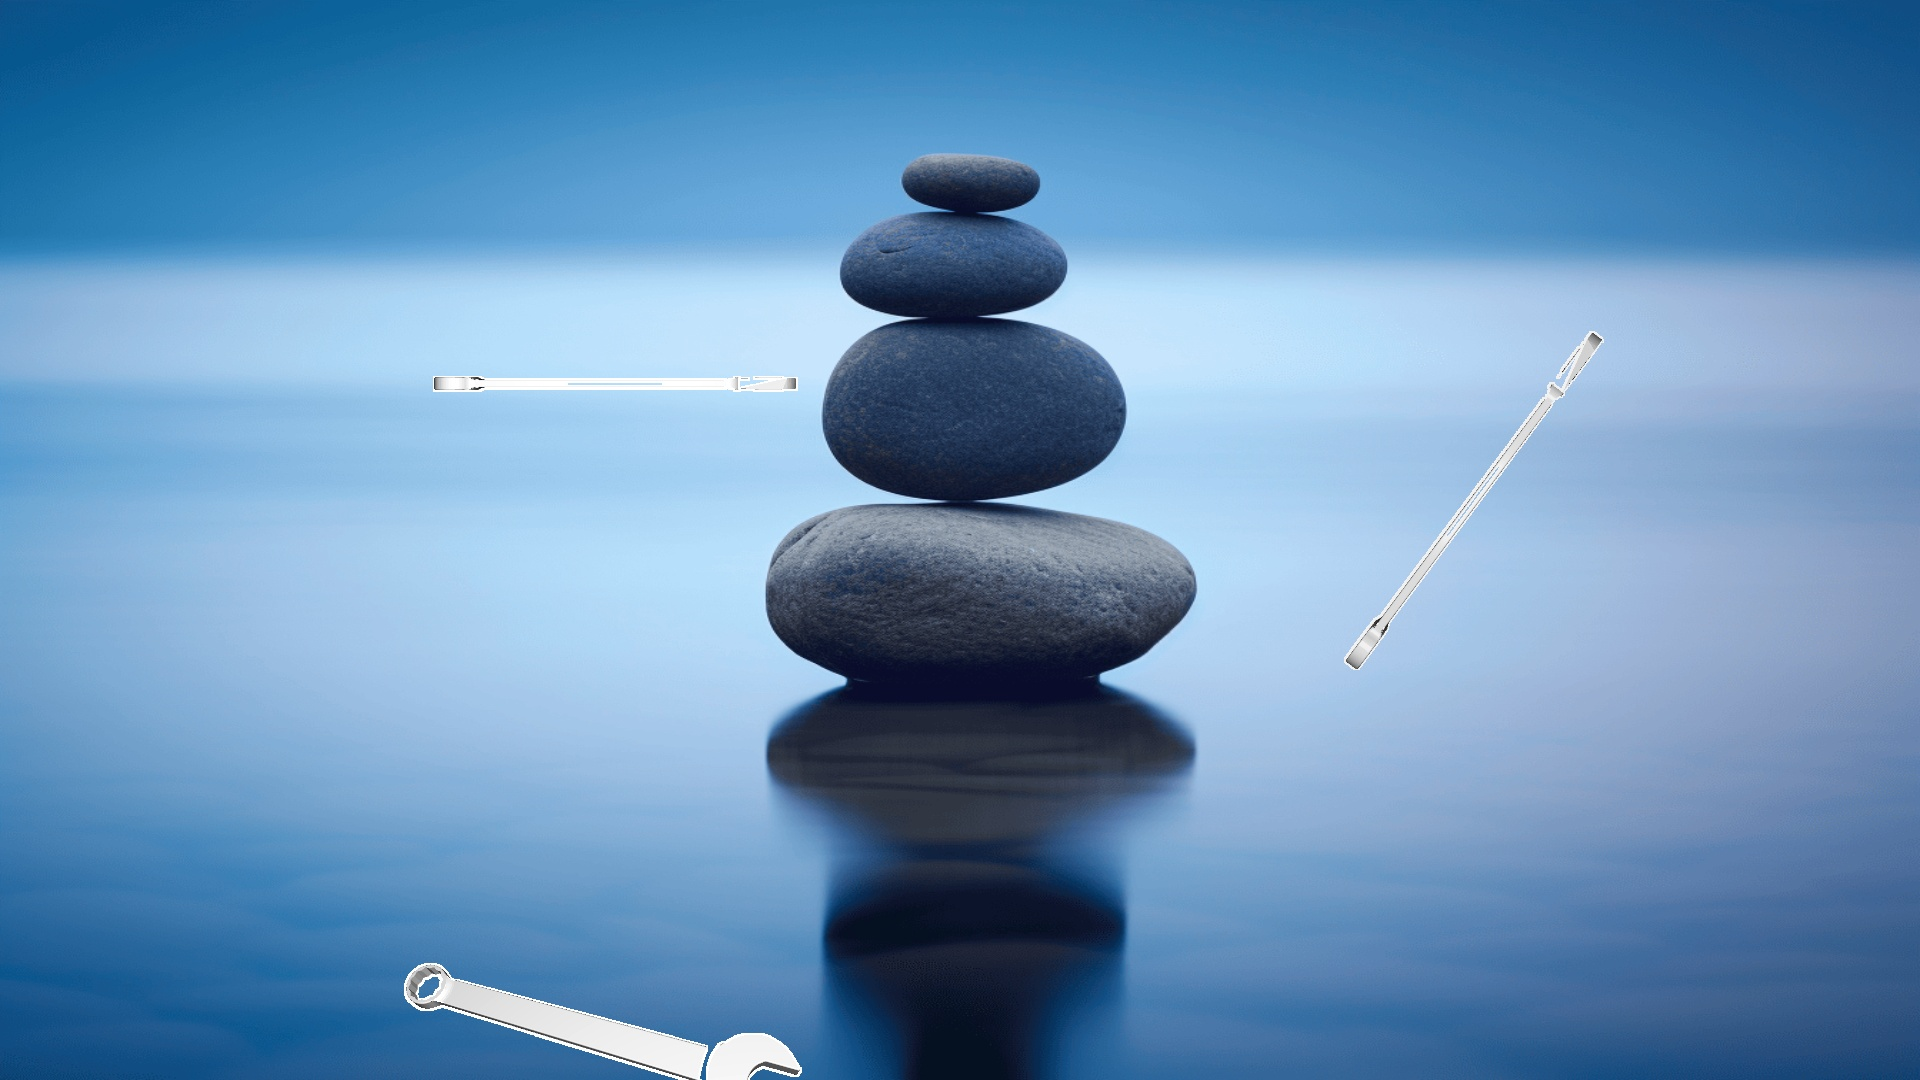Mixed Key: (1344, 331, 1604, 669), (404, 963, 800, 1079), (433, 376, 796, 392)
